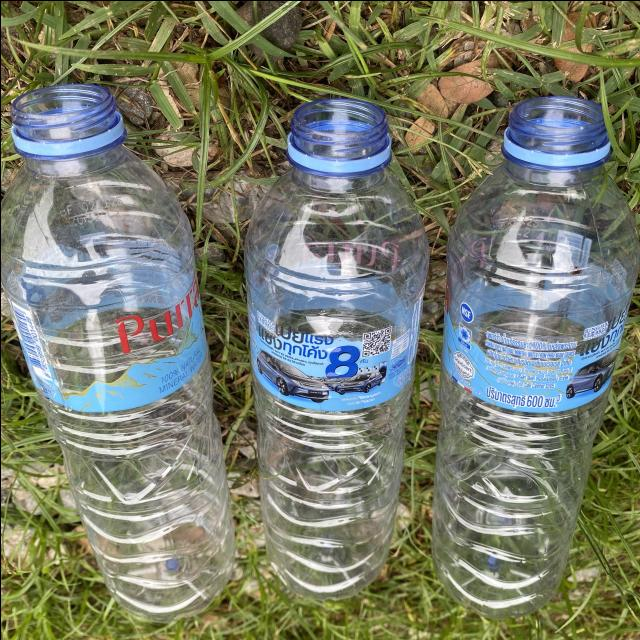plastik: (0, 84, 234, 620), (431, 95, 639, 616), (244, 98, 427, 598)
